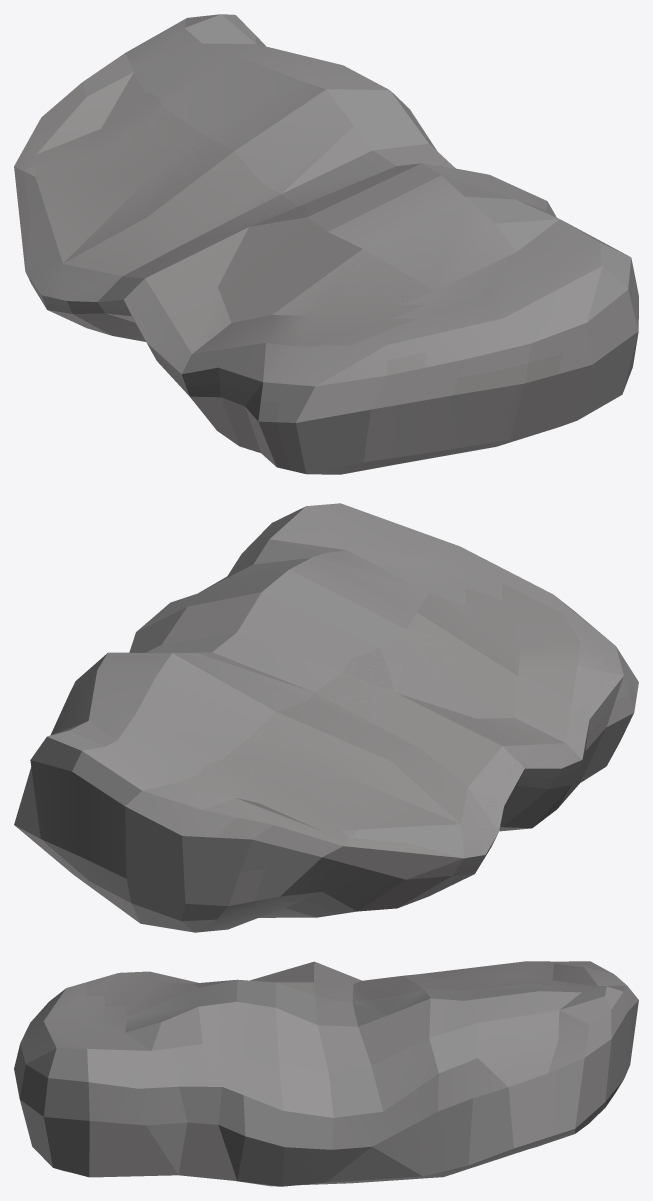
The model's file is Flat Rock.fbx.
3 views of the same model, one above another, from view 1: azimuth 30°, elevation 25°; view 2: azimuth 150°, elevation 25°; view 3: azimuth 270°, elevation 25° (orthographic). The views are drawn at different scales.
Visible parts, largest first — view 1: Cube; view 2: Cube; view 3: Cube.
Part boxes in pixels (left/top/right/bottom): Cube: left=14, top=14, right=638, bottom=474; Cube: left=14, top=503, right=638, bottom=932; Cube: left=14, top=961, right=638, bottom=1186.
Bounding box in the file's own units: 186 × 89.77 × 277.
Materials: 1 (1 with a texture image).
